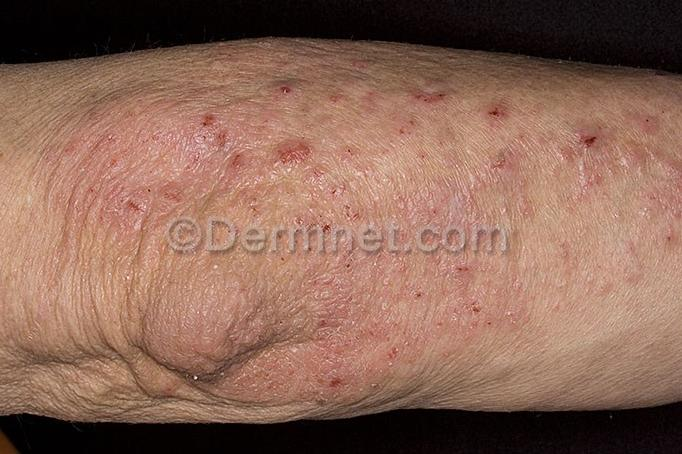eritema 1: (31, 62, 682, 413)
exudacion 2: (82, 79, 599, 394)
xerosis 1: (240, 39, 682, 91)
